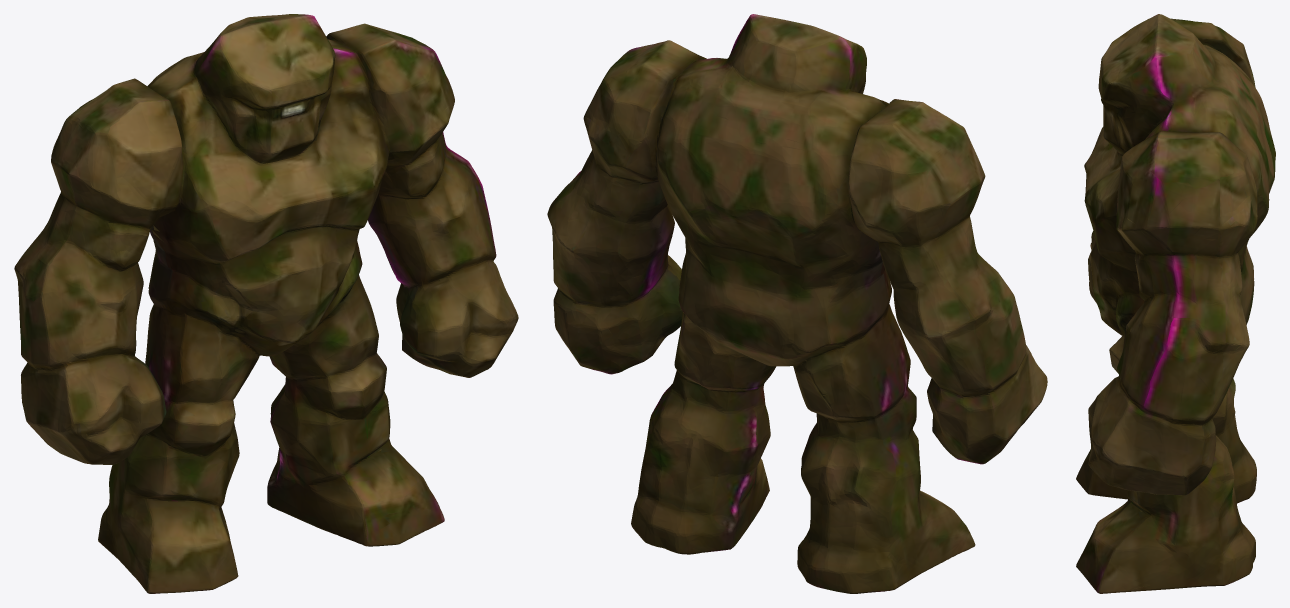
File: COLOSSUS.glb
3 views of the same model, side by side, from view 1: azimuth 30°, elevation 25°; view 2: azimuth 150°, elevation 25°; view 3: azimuth 270°, elevation 25° (orthographic). The views are drawn at different scales.
Parts seen in each view (by area): view 1: COLOSSUS_512; view 2: COLOSSUS_512; view 3: COLOSSUS_512.
Part boxes in pixels (x1=…): COLOSSUS_512: x1=14, y1=14, x2=518, y2=593; COLOSSUS_512: x1=547, y1=14, x2=1047, y2=593; COLOSSUS_512: x1=1076, y1=14, x2=1275, y2=593.
Bounding box in the file's own units: 1.84 × 1.99 × 0.7279.
Materials: 1 (1 with a texture image).
